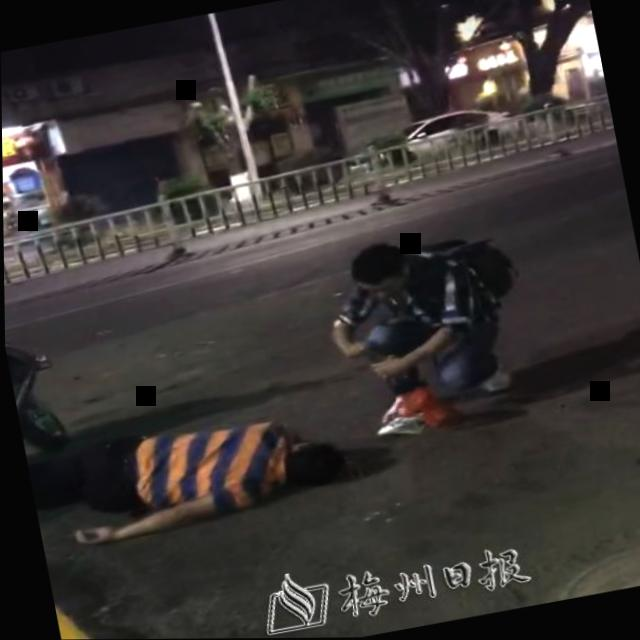Fall-Detected: (20, 381, 364, 564)
